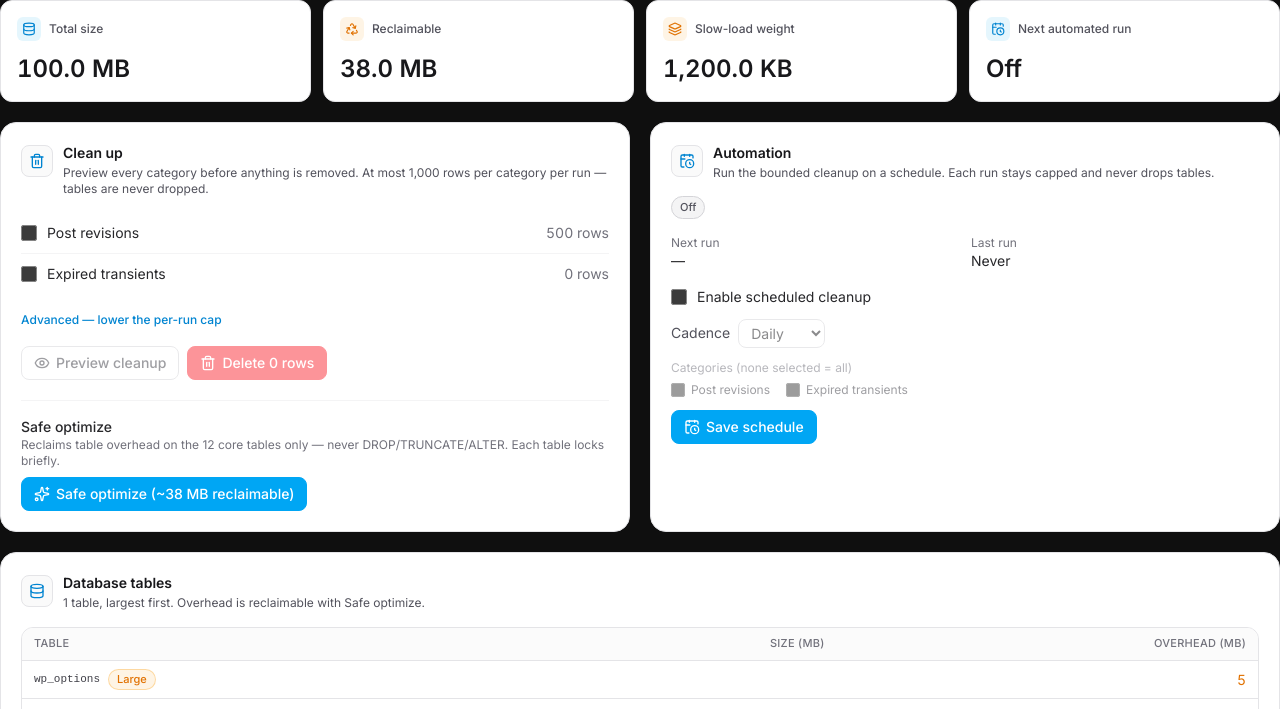
it: DatabaseCockpit — preview-before-delete › Delete is disabled until the current selection is previewed, then labelled with the total
Expected: the button "Delete 0 rows" is disabled, top-left (187, 346), bottom-right (327, 380)
Click the checkbox labelled "Post revisions" in the row of "500" at [29, 233], box top-left (21, 225), bottom-right (37, 241)
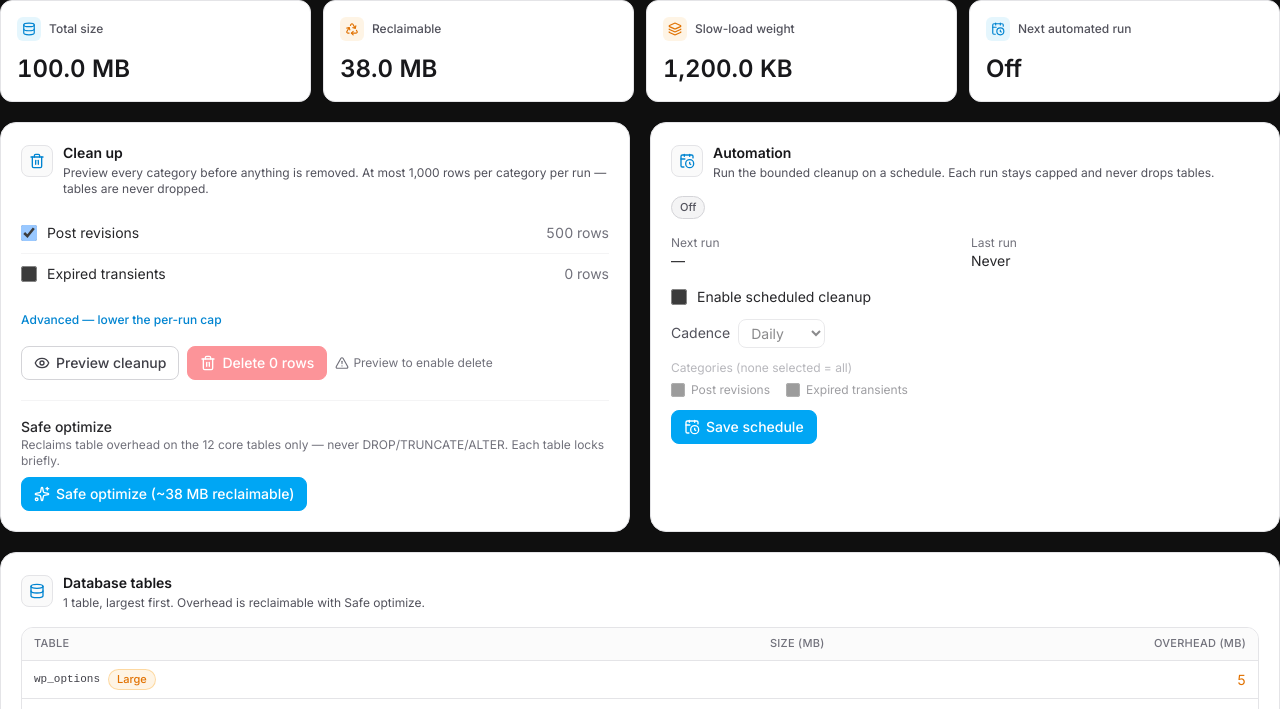
Click the button "Preview cleanup" at [100, 363], box top-left (21, 346), bottom-right (179, 380)
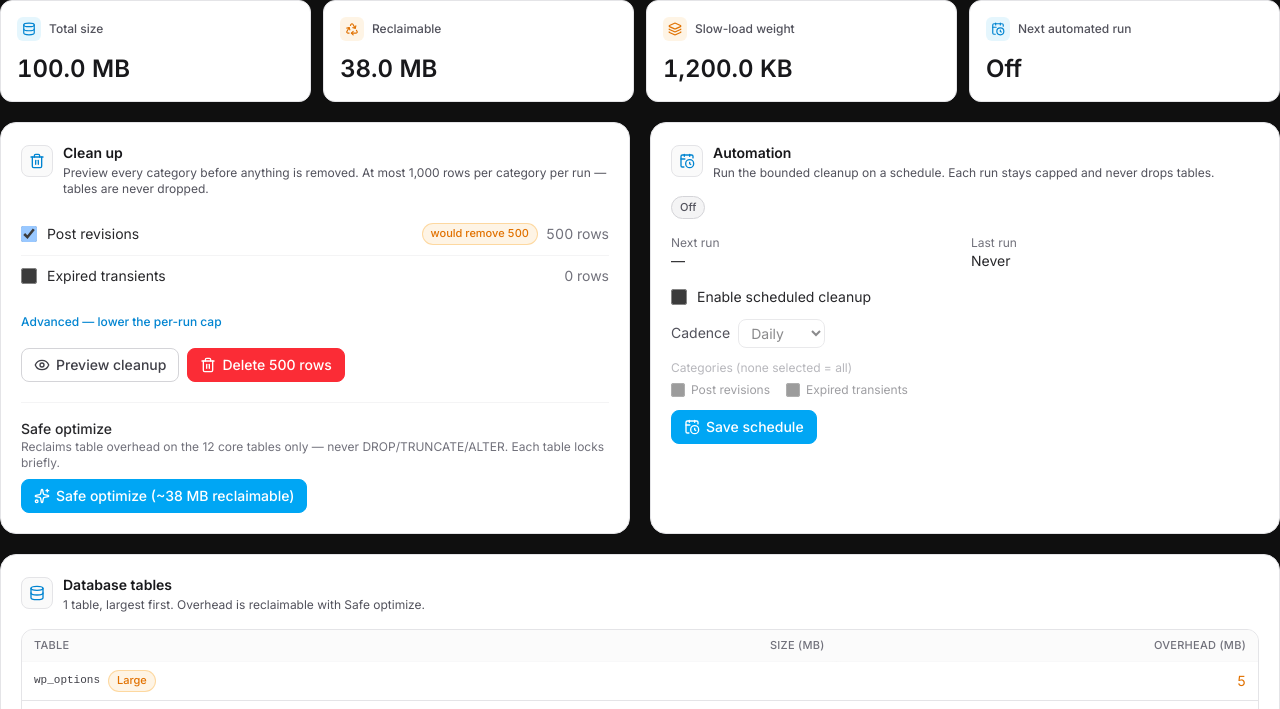
Expected: the text "would remove 500" is shown, top-left (422, 223), bottom-right (538, 245)
Expected: the button "Delete 500 rows" is enabled, top-left (187, 348), bottom-right (345, 382)
